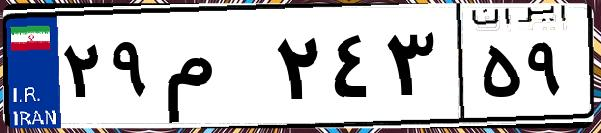2: (270, 28, 330, 110), (57, 26, 110, 100)
3: (385, 28, 445, 110)
4: (330, 28, 385, 110)
5: (475, 38, 525, 113)
9: (525, 38, 570, 115), (110, 28, 158, 98)
م: (158, 20, 270, 120)
